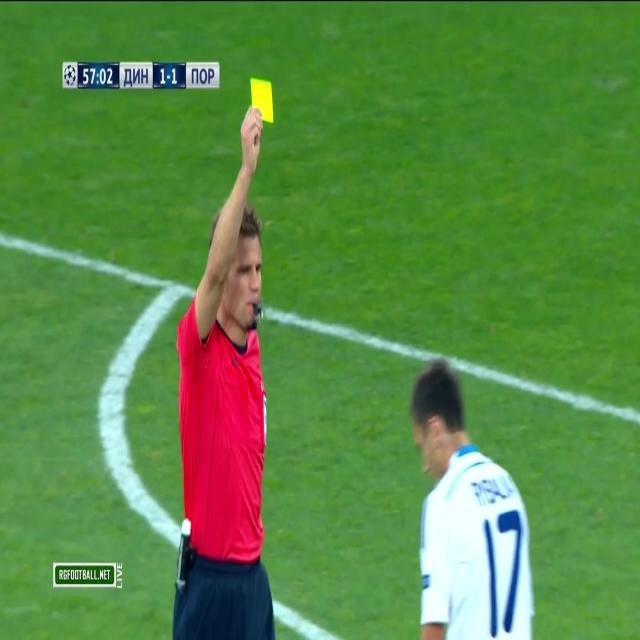Player: (414, 356, 538, 636)
Referee: (170, 106, 276, 640)
